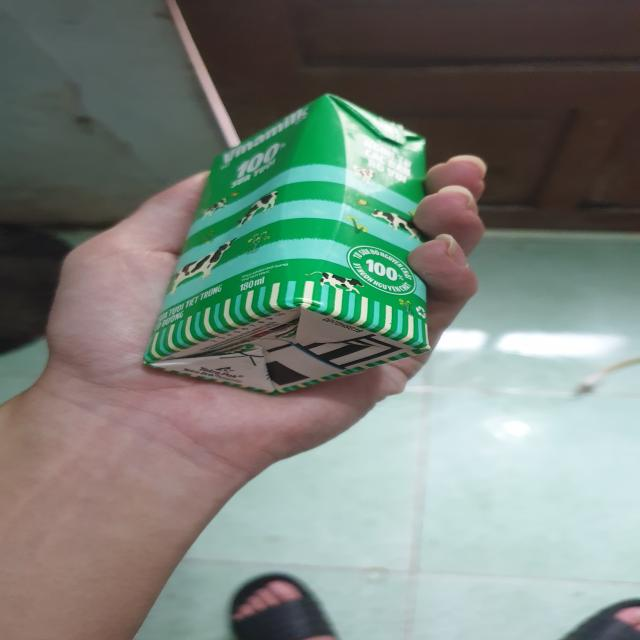Vina: (142, 95, 430, 400)
